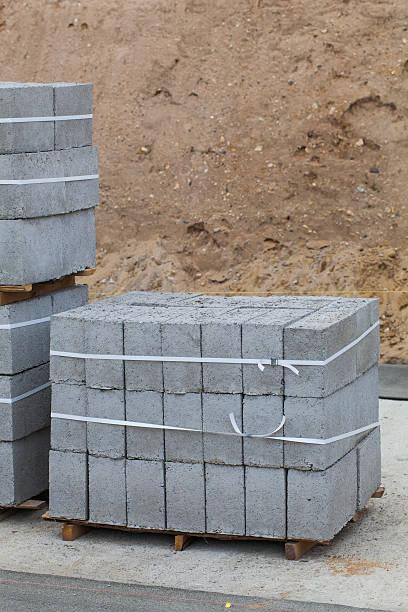Bricks: (285, 446, 357, 543), (283, 379, 358, 472), (284, 314, 359, 399), (242, 392, 285, 471), (201, 392, 245, 469), (163, 461, 207, 536), (245, 468, 286, 542), (241, 327, 285, 395), (162, 393, 203, 465), (201, 326, 244, 394), (124, 391, 165, 462), (122, 323, 164, 392), (124, 459, 166, 528), (159, 325, 201, 393), (86, 387, 126, 458), (85, 320, 124, 392), (205, 464, 245, 534), (49, 383, 89, 452), (50, 450, 89, 520), (88, 455, 126, 526), (50, 316, 88, 386), (357, 425, 381, 516), (121, 304, 196, 325), (241, 307, 315, 327), (201, 307, 270, 328), (159, 307, 234, 326), (285, 309, 351, 329)
